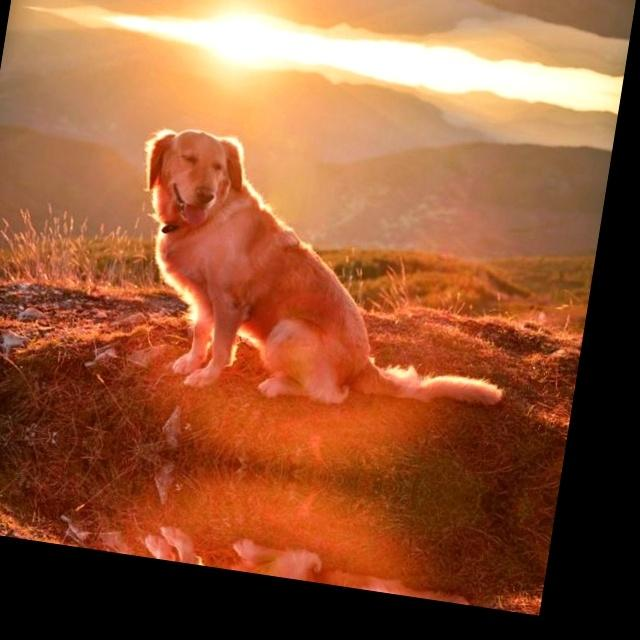dog: (90, 88, 419, 458), (70, 467, 360, 587)
